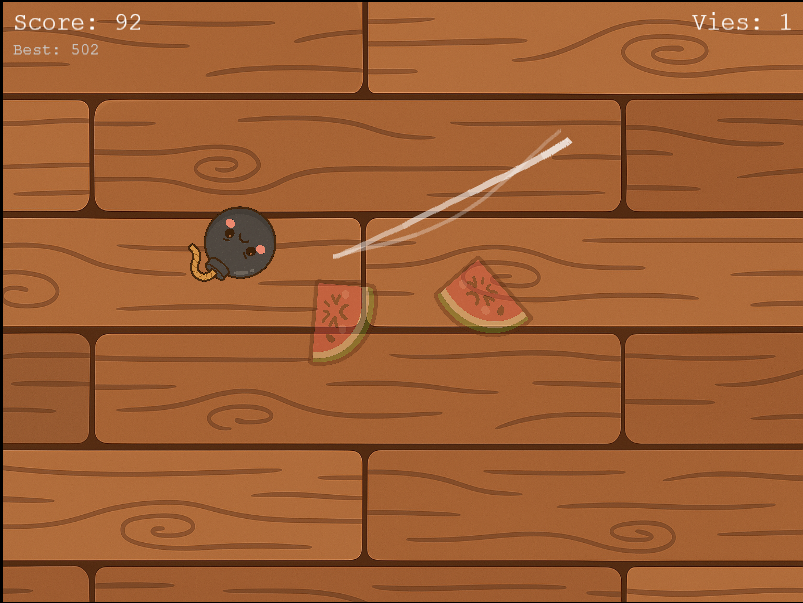bomb: (183, 202, 281, 291)
